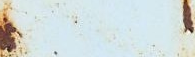Corrosion: (1, 1, 28, 57), (182, 1, 195, 34)
